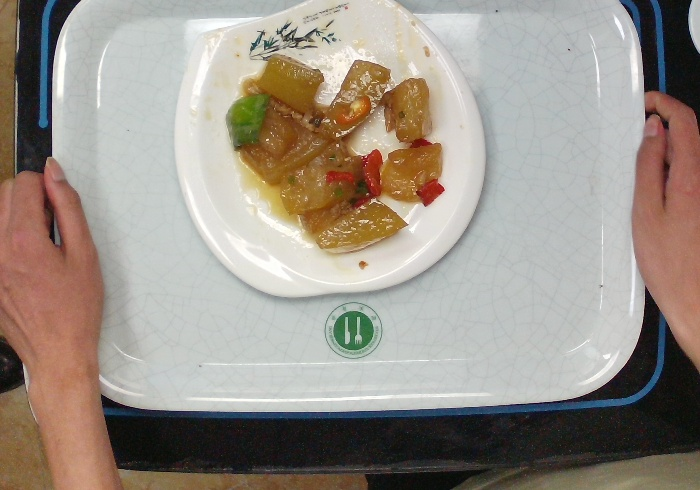JYsf-Mian_Pan: (170, 1, 489, 301)
